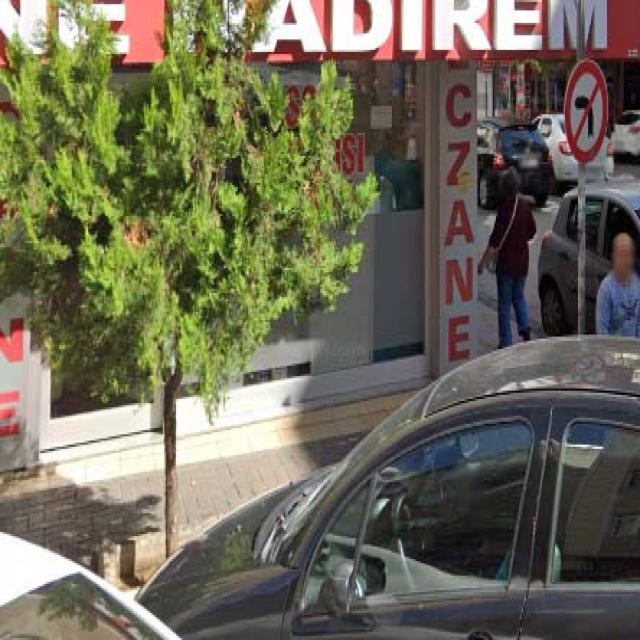soladonulmez: (565, 58, 608, 162)
